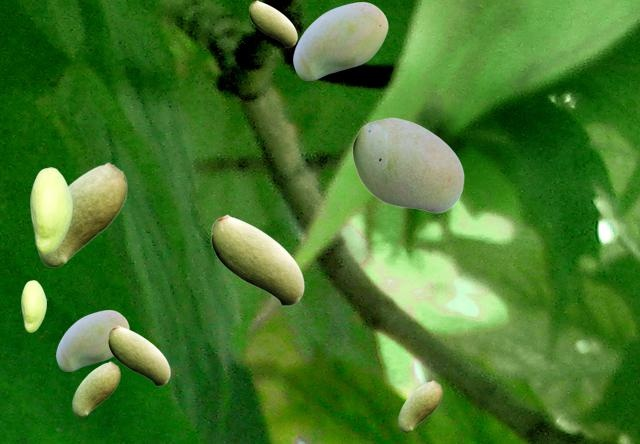green_mango: (352, 117, 463, 212), (38, 162, 126, 266), (211, 214, 303, 305), (293, 2, 387, 79), (56, 310, 128, 370), (108, 325, 169, 385), (30, 167, 71, 253), (72, 361, 119, 416), (398, 380, 441, 431), (249, 0, 296, 46), (21, 280, 45, 331)
